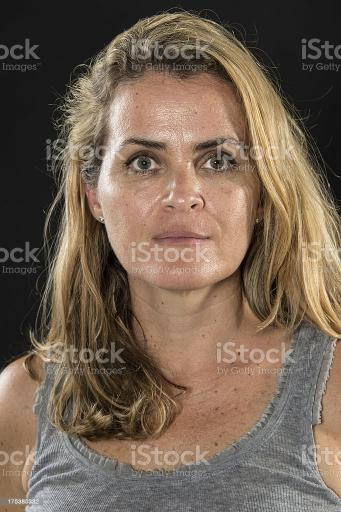left_eye: (198, 152, 238, 177)
left_lip_corner: (203, 231, 215, 246)
right_eye: (124, 152, 163, 178)
right_lip_corner: (151, 231, 161, 245)
